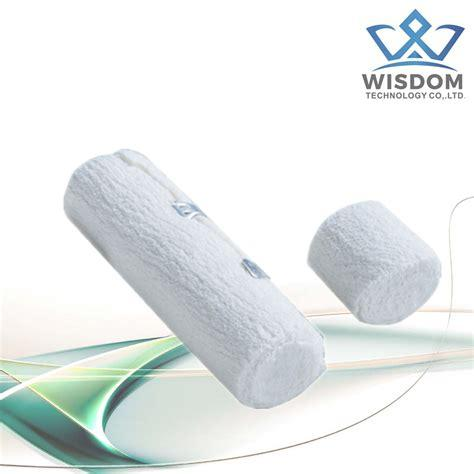cotton: (53, 96, 318, 418), (303, 196, 455, 329)
